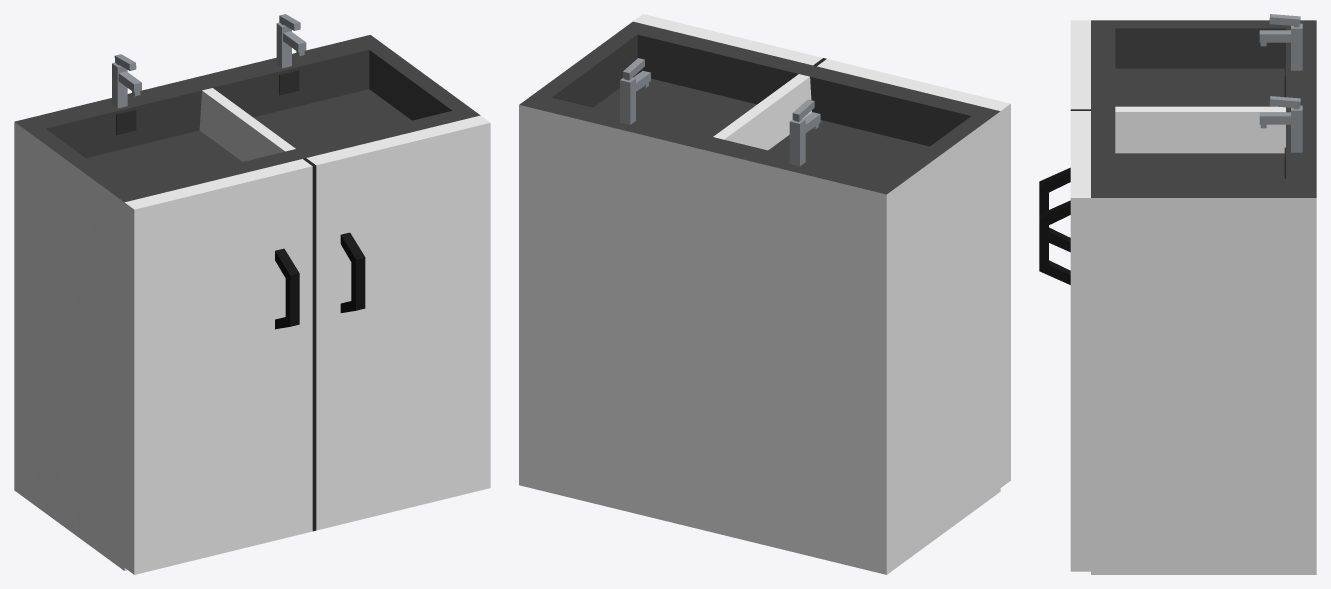
File: Kitchen_Cabinet_5A.fbx
3 renders of one model, left to right at view 1: azimuth 30°, elevation 25°; view 2: azimuth 150°, elevation 25°; view 3: azimuth 270°, elevation 25°, orthographic. The views are drawn at different scales.
Parts seen in each view (by area): view 1: polySurface975; view 2: polySurface975; view 3: polySurface975.
Boxes of the visible parts, x1,y1,x2,y2 form: polySurface975: [14, 14, 490, 574]; polySurface975: [519, 14, 1010, 574]; polySurface975: [1039, 14, 1316, 574].
Bounding box in the file's own units: 1.3 × 1.46 × 0.8565.
1 material, 1 textured.
